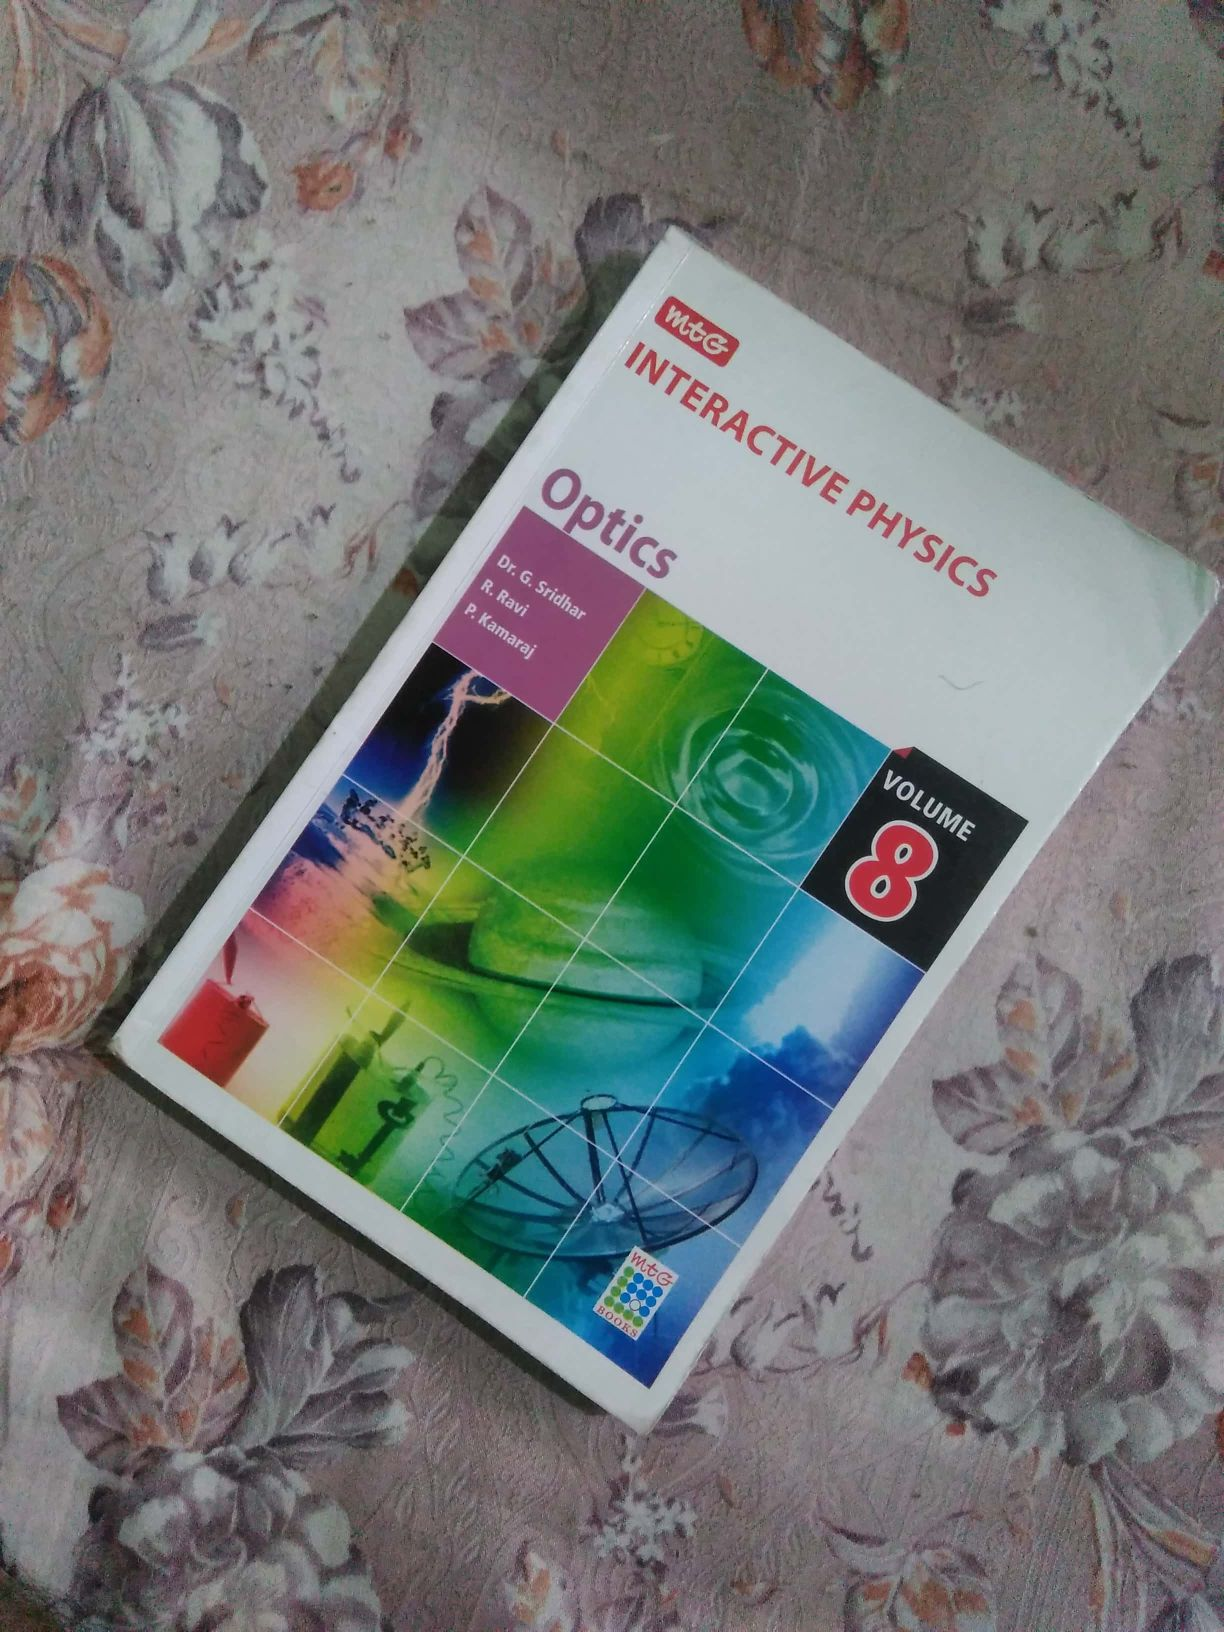optics: (149, 249, 1193, 1388)
